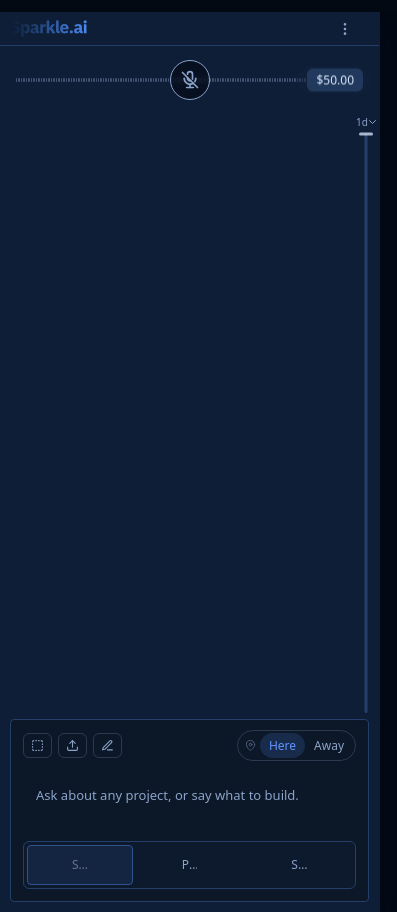
Scenario: the proactive push channel drives none of this › leaves the typing indicator alone for the user turn actually in flight
This screenshot has width=397, height=912.
Type "what needs me?" into the text box at (190, 804), box [23, 775, 356, 833]
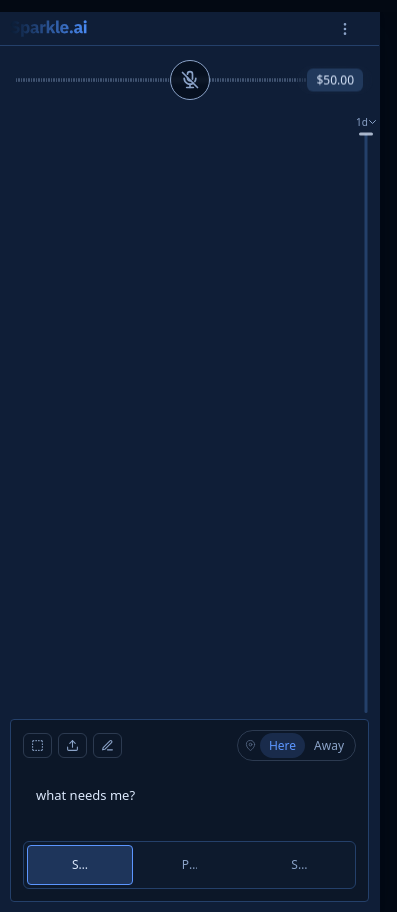
Click the text "Send" at (80, 865), box [72, 856, 88, 874]
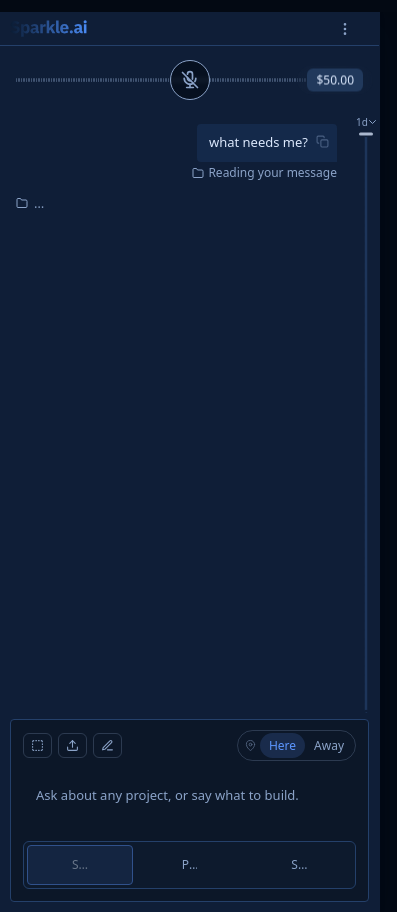
Now the element with test id "concierge-thinking" is shown, box [16, 194, 44, 213]
